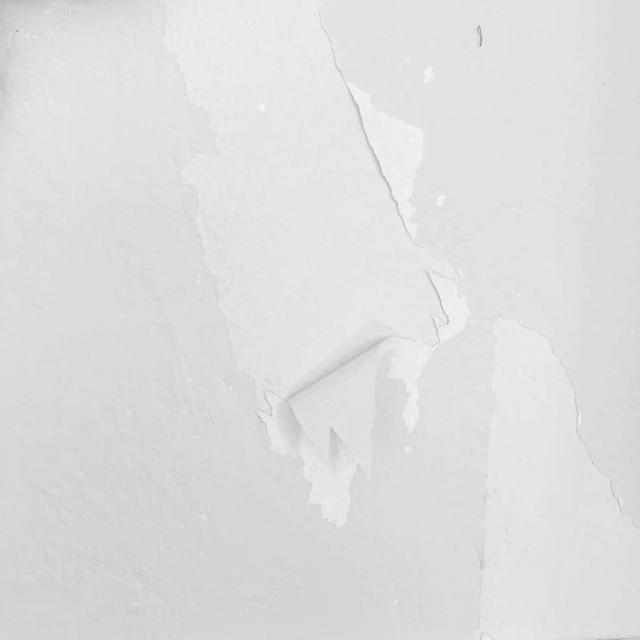peeling paint: (141, 0, 640, 640)
